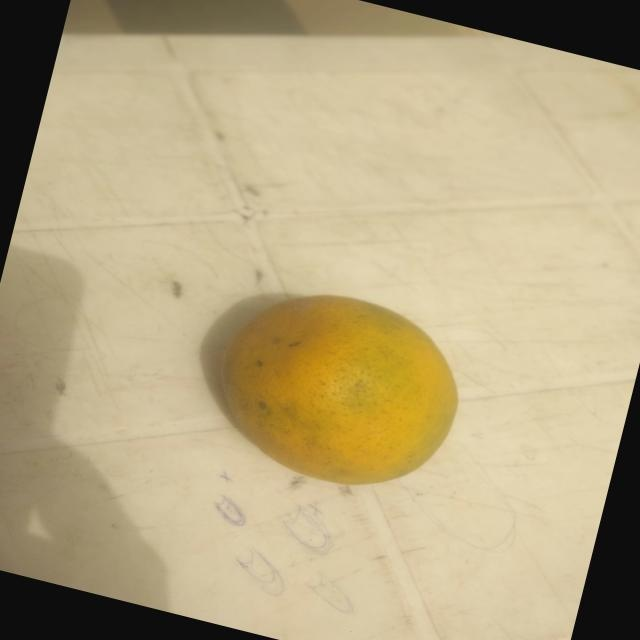agrume: (179, 250, 493, 533)
